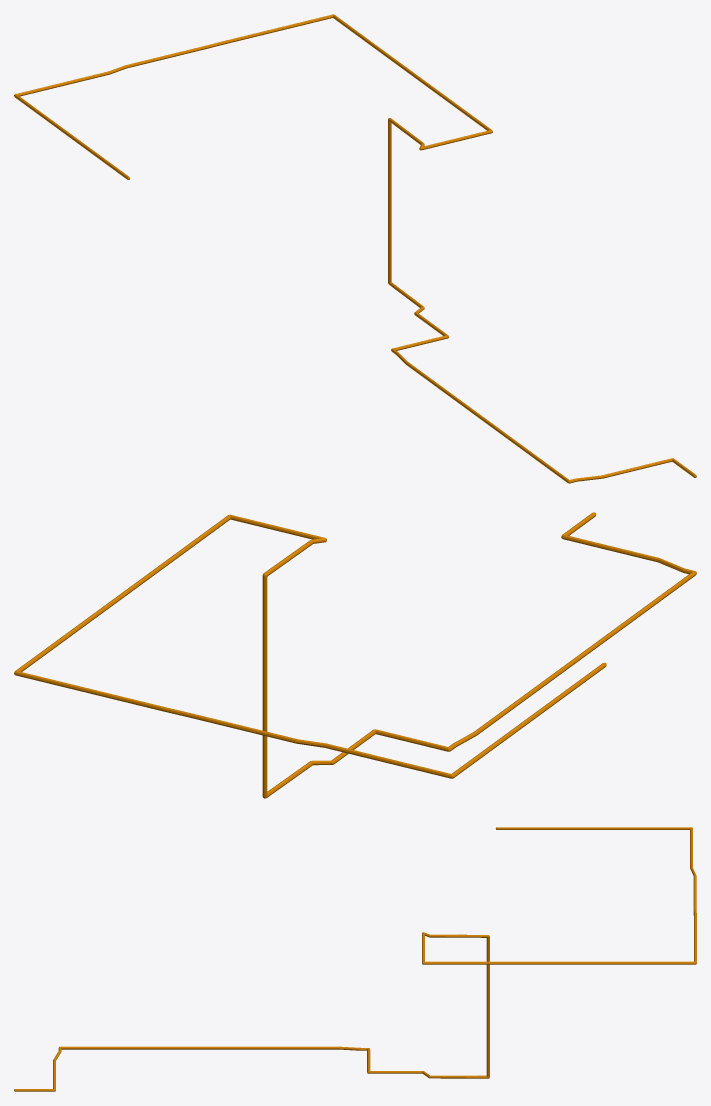
3 renders of one model, top to bottom at view 1: azimuth 30°, elevation 25°; view 2: azimuth 150°, elevation 25°; view 3: azimuth 270°, elevation 25°, orthographic. The views are drawn at different scales.
Bounding box in the file's own units: 2068 × 1020 × 4394.
